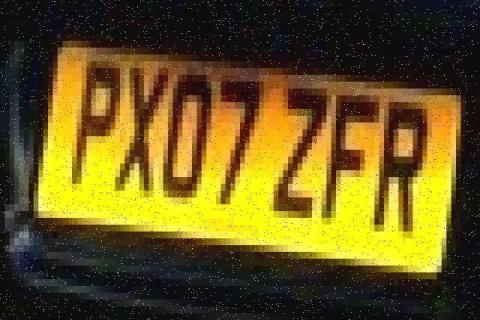LicensePlate: (30, 36, 460, 282)
